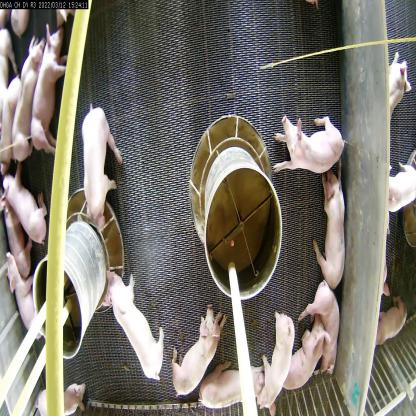Pig: (269, 105, 346, 188), (103, 272, 158, 362), (79, 102, 115, 232), (311, 178, 349, 294), (4, 241, 46, 344), (169, 310, 225, 386), (193, 351, 265, 405), (260, 310, 298, 403), (33, 36, 61, 158), (5, 169, 48, 247), (7, 49, 38, 145), (40, 368, 100, 415), (281, 328, 324, 392), (310, 296, 341, 373), (0, 195, 23, 266)
